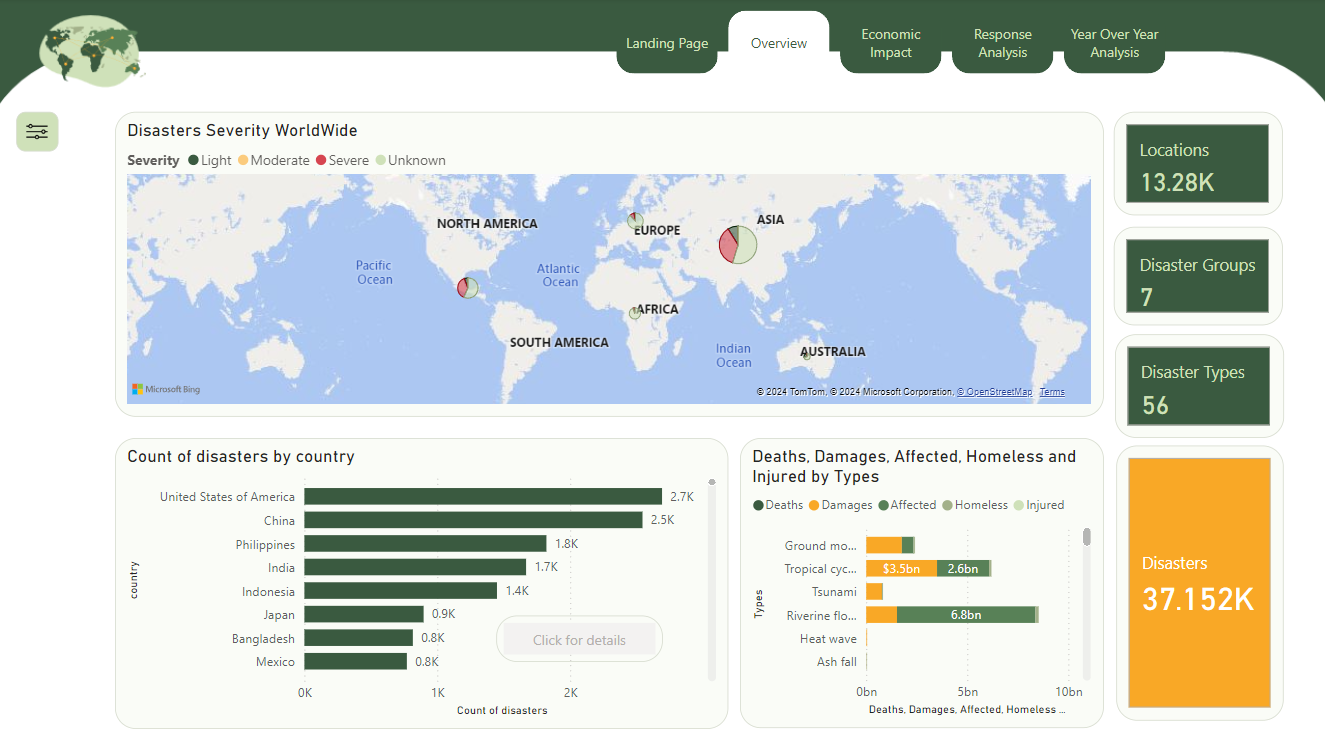

Layout of this report page (visuals, bound fields, positions):
{"tool":"powerbi","page":{"name":"Overview","canvas":[1280,720],"ordinal":1},"visuals":[{"type":"pageNavigator","box":[594.7,11.8,534.2,61.8],"z":0},{"type":"barChart","fields":{"Category":["dim_locations.country"],"Y":["Count(fact_disasters.id)"]},"box":[111,424.7,592.2,280.5],"z":0,"group":"g1"},{"type":"cardVisual","fields":{"Data":["CountNonNull(dim_disaster_groups.id)"]},"box":[1074.9,220.8,162.9,95.3],"z":1000},{"type":"actionButton","box":[479.4,596.5,161.1,44.4],"z":1000,"group":"g1"},{"type":"map","title":"Disasters Severity WorldWide","fields":{"Category":["dim_locations.continent","dim_locations.region","dim_locations.country","dim_locations.location.1"],"Series":["fact_disasters.Combined_Severity"],"Size":["Sum(fact_disasters.total_deaths)"]},"box":[111,109.8,954.3,294.4],"z":2000},{"type":"cardVisual","fields":{"Data":["CountNonNull(dim_disaster_types.id)"]},"box":[1076.1,324.5,162.9,100.1],"z":3000},{"type":"cardVisual","fields":{"Data":["Count(dim_locations.location_id)"]},"box":[1074.9,109.8,162.9,100.1],"z":4000},{"type":"image","title":"filters button","box":[16.1,109.2,41,38.5],"z":5000},{"type":"cardVisual","fields":{"Data":["Count(fact_disasters.id)"]},"box":[1077.4,431.9,161.7,265.4],"z":6000},{"type":"group","id":"g1","title":"Group 2","box":[111,424.7,591.8,279.9],"z":7000},{"type":"barChart","fields":{"Category":["dim_disaster_types.name"],"Y":["Sum(fact_disasters.total_deaths)","Sum(fact_disasters.total_damages)","Sum(fact_disasters.total_affected)","Sum(fact_disasters.no_homeless)","Sum(fact_disasters.no_injured)"]},"box":[714.4,424.7,350.9,279.9],"z":8000}]}

Visuals, with their boxes in screenshot pixels (x1, y1, x2, y2), scaled from the page's 1280x720 canvas onto the 1325x740 screenshot:
pageNavigator: bbox=[616, 12, 1169, 76]
barChart - dim_locations.country x Count(fact_disasters.id): bbox=[115, 436, 728, 725]
cardVisual - CountNonNull(dim_disaster_groups.id): bbox=[1113, 227, 1281, 325]
actionButton: bbox=[496, 613, 663, 659]
"Disasters Severity WorldWide" map: bbox=[115, 113, 1103, 415]
cardVisual - CountNonNull(dim_disaster_types.id): bbox=[1114, 334, 1283, 436]
cardVisual - Count(dim_locations.location_id): bbox=[1113, 113, 1281, 216]
"filters button" image: bbox=[17, 112, 59, 152]
cardVisual - Count(fact_disasters.id): bbox=[1115, 444, 1283, 717]
"Group 2" group: bbox=[115, 436, 728, 724]
barChart - dim_disaster_types.name x Sum(fact_disasters.total_deaths): bbox=[740, 436, 1103, 724]
